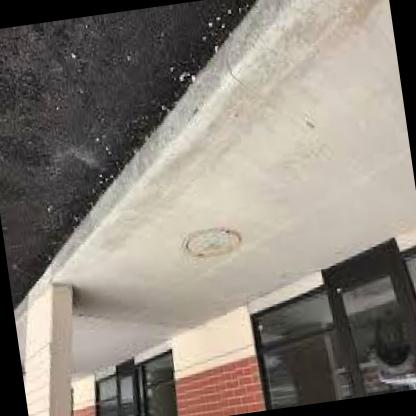manholes: (165, 210, 265, 286)
